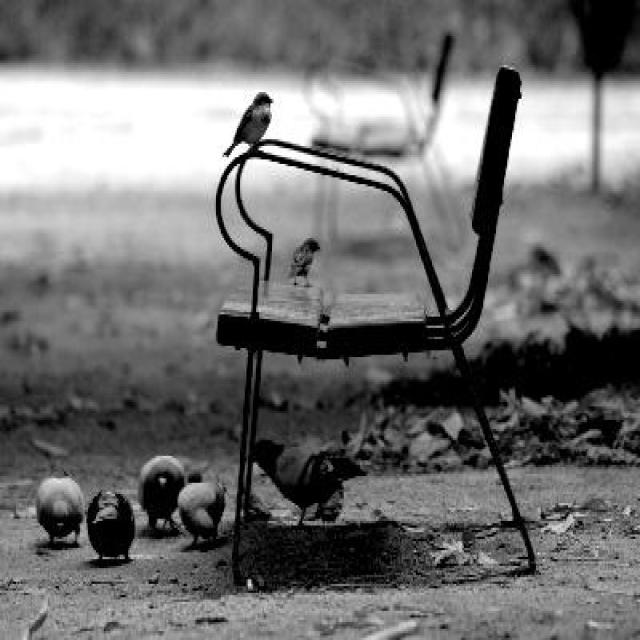bird: (246, 434, 370, 526), (133, 452, 189, 532), (84, 487, 138, 564), (178, 467, 227, 550), (32, 476, 86, 548), (220, 88, 274, 157), (288, 231, 325, 290)
chair: (211, 63, 541, 586)
